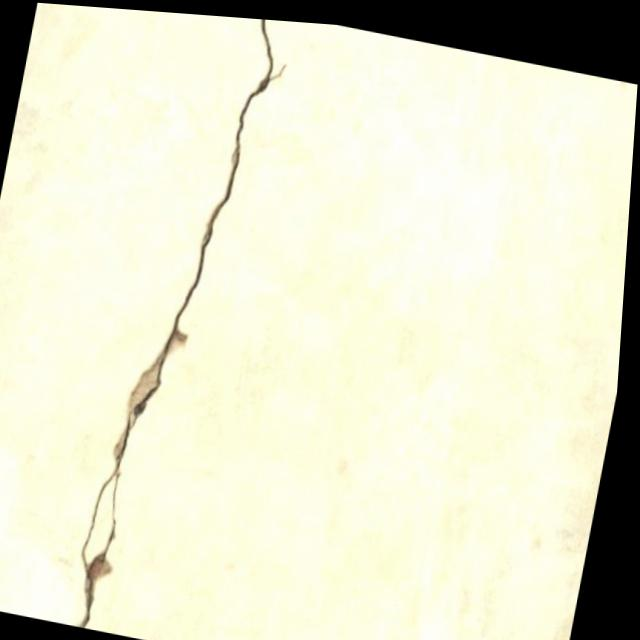Crack: (62, 6, 316, 640)
